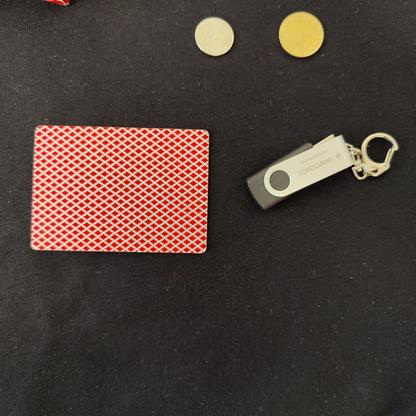card: (27, 120, 215, 260)
